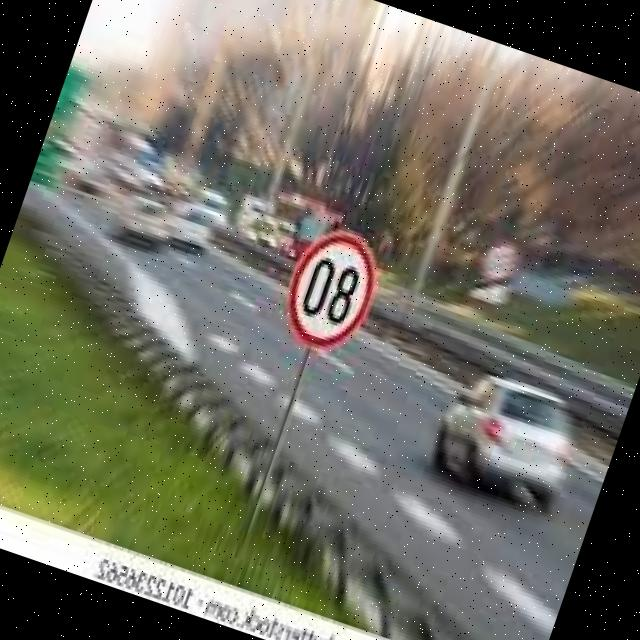speed_limit_80: (265, 215, 396, 364)
